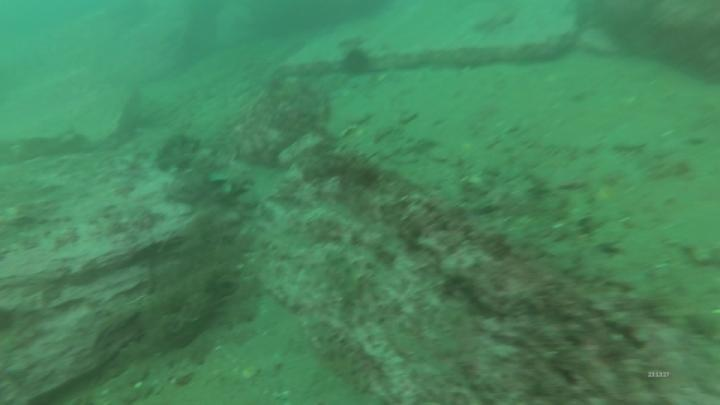echinus: (344, 45, 373, 80)
holothurian: (322, 245, 364, 308)
starfish: (211, 164, 259, 201)
